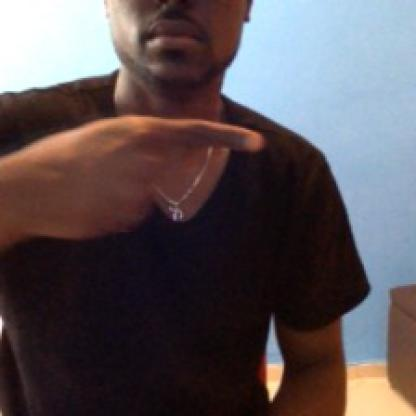TURN LEFT: (20, 81, 280, 248)
